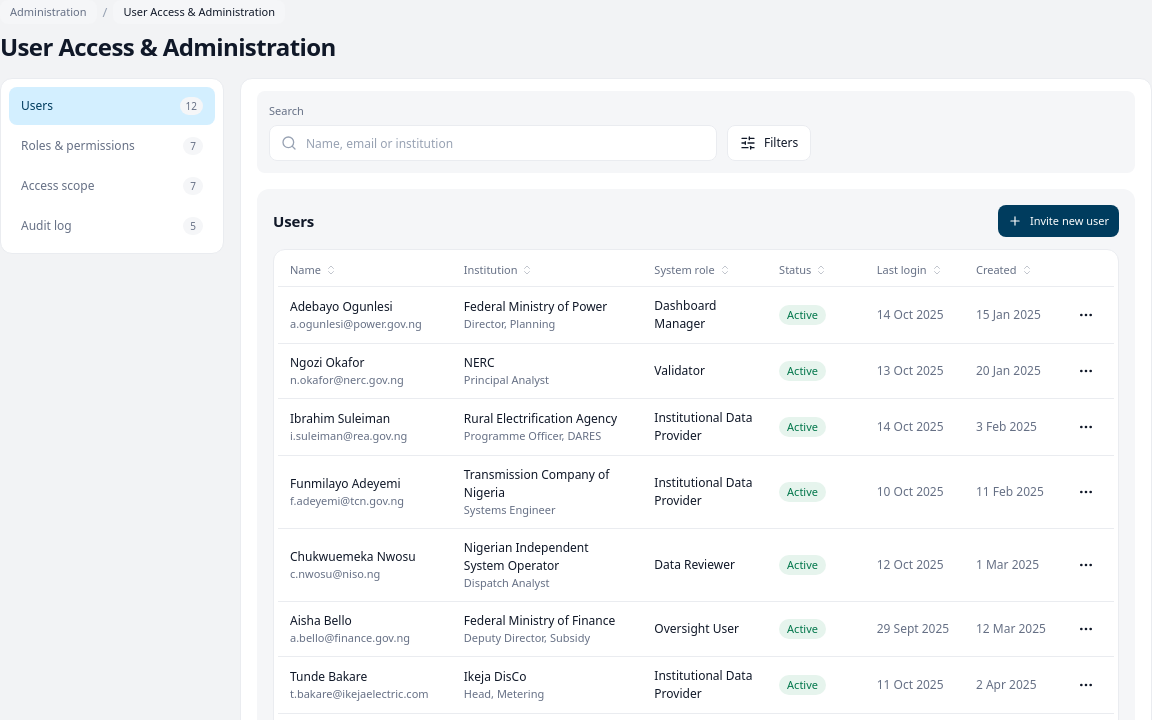
Test case: AdministrationPage › uses a row action to move from a role to its assigned users
The image size is (1152, 720).
Check: the heading "User Access & Administration" is shown, box [0,30,336,63]
Click the tab "Roles & permissions 7" at (112, 146), box [9,127,215,165]
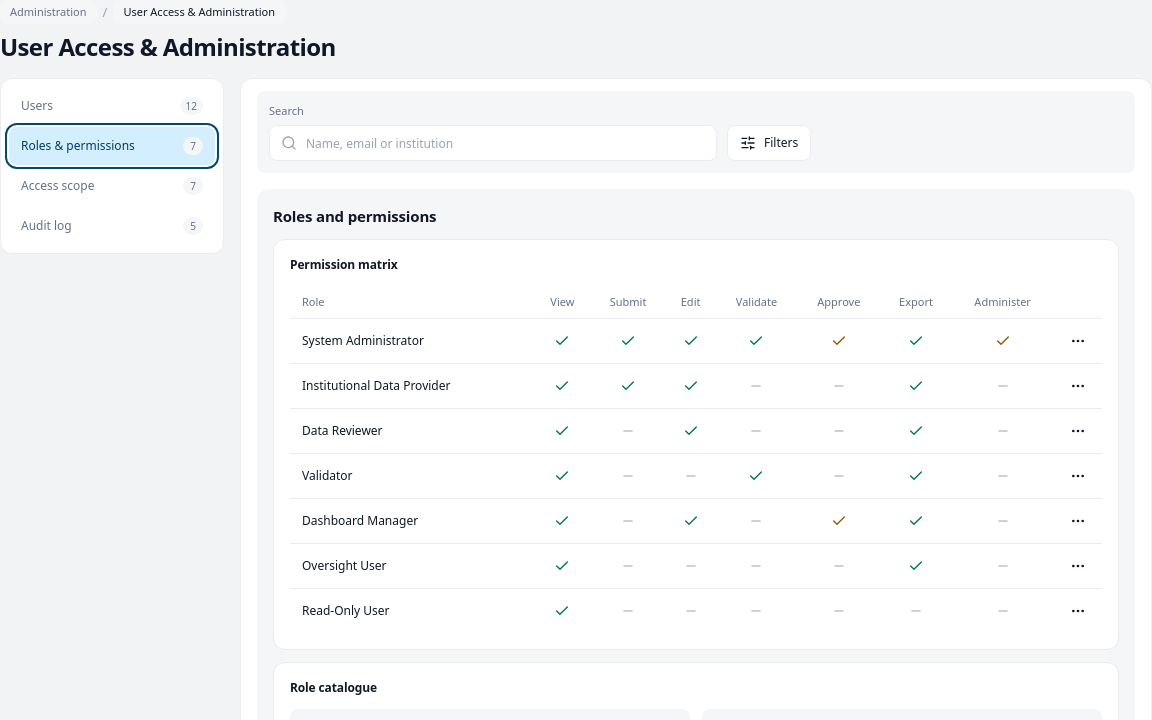
Click the button named "Actions for System Administrator" at (1078, 341), box [1062,325,1094,357]
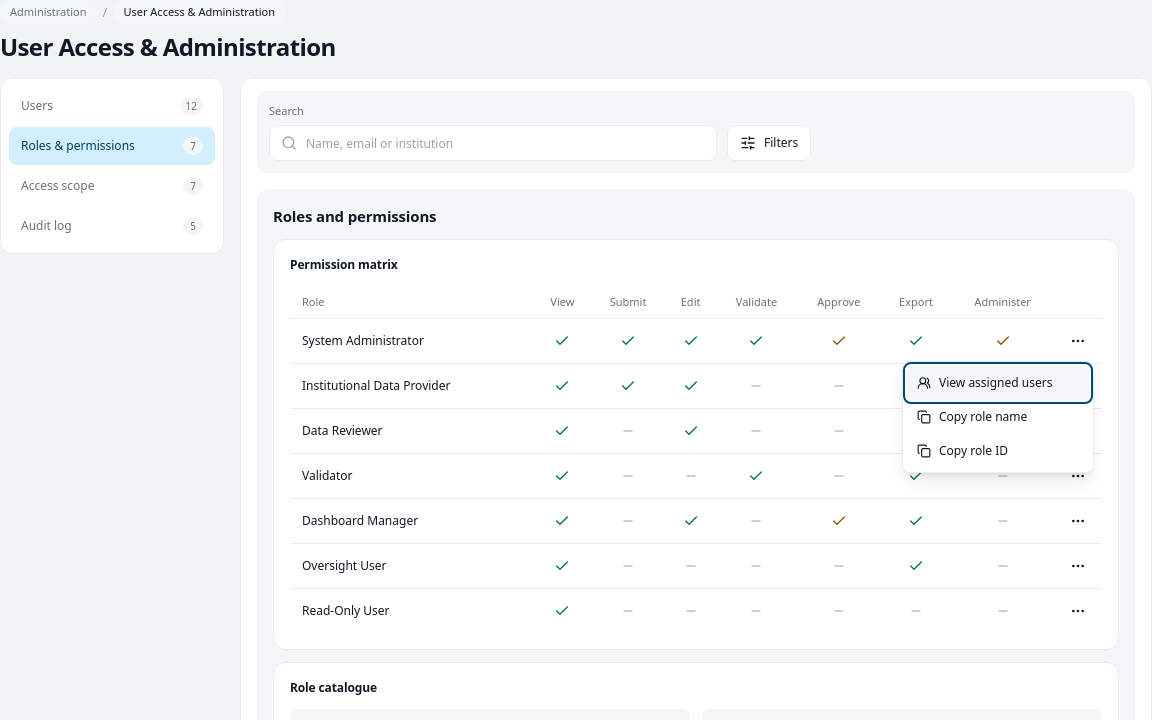
Click the menu item "View assigned users" at (998, 383), box [907,366,1089,400]
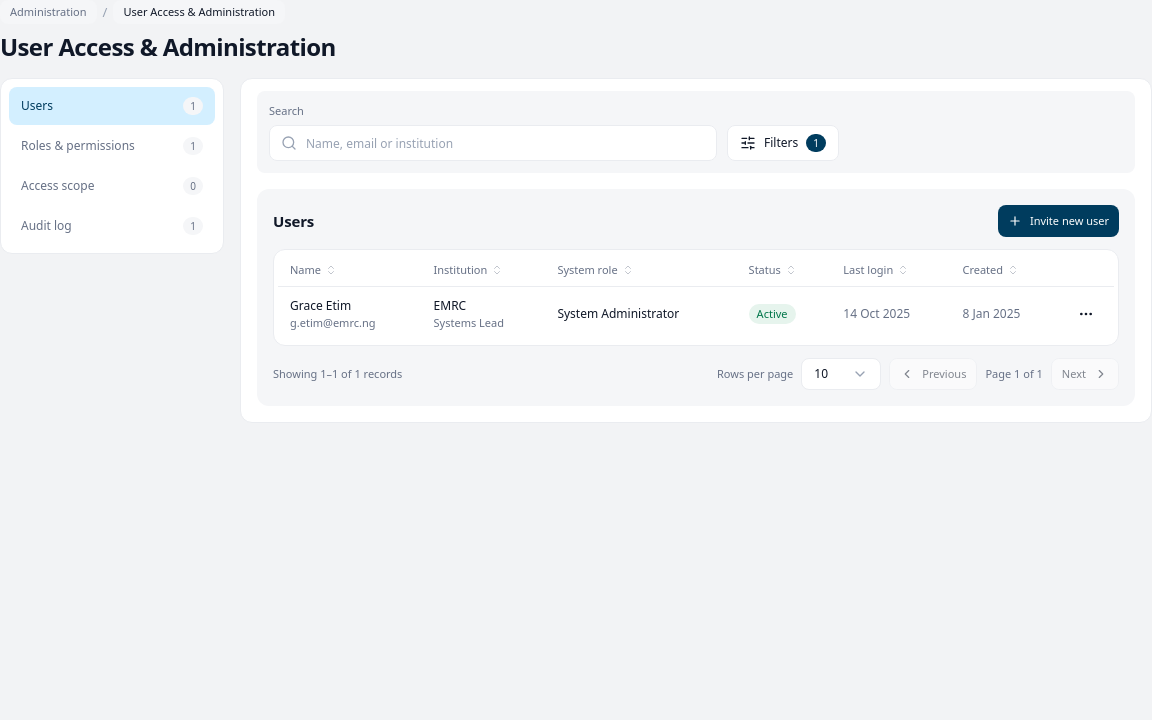
Check: the text "Grace Etim" is shown, box [290,297,351,314]
